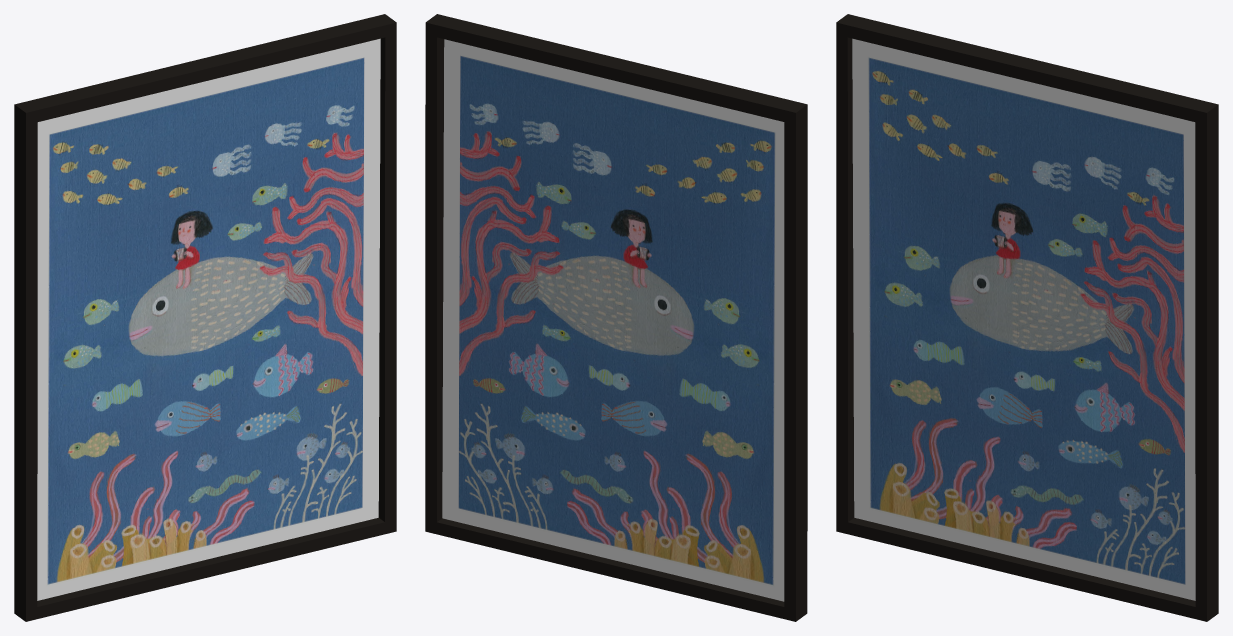
The model's file is flickan_och_fisken_30x40_WEBB.glb.
3 views of the same model, side by side, from view 1: azimuth 30°, elevation 25°; view 2: azimuth 150°, elevation 25°; view 3: azimuth 330°, elevation 25° (orthographic).
Visible parts, largest first — view 1: P655208_vintervass_30x40_WEBB, Frame2; view 2: P655208_vintervass_30x40_WEBB, Frame2; view 3: P655208_vintervass_30x40_WEBB, Frame2.
Part boxes in pixels (left/top/right/bottom): P655208_vintervass_30x40_WEBB: left=37, top=38, right=380, bottom=600; Frame2: left=14, top=14, right=396, bottom=621; P655208_vintervass_30x40_WEBB: left=442, top=39, right=784, bottom=601; Frame2: left=425, top=14, right=807, bottom=621; P655208_vintervass_30x40_WEBB: left=852, top=38, right=1195, bottom=600; Frame2: left=836, top=14, right=1218, bottom=621.
Size of the model in its own units: 0.2576 by 0.3381 by 0.0143.
2 materials, 2 textured.
